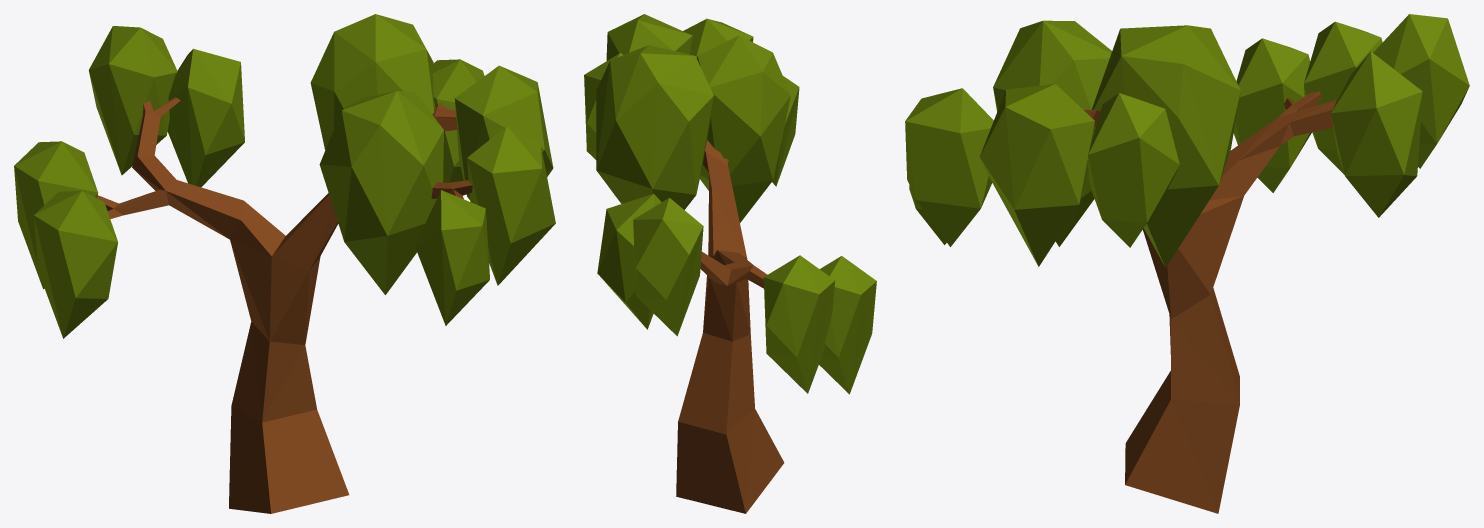
File: Willow2.fbx
3 views of the same model, side by side, from view 1: azimuth 30°, elevation 25°; view 2: azimuth 150°, elevation 25°; view 3: azimuth 270°, elevation 25° (orthographic). The views are drawn at different scales.
Visible parts, largest first — view 1: Willow2; view 2: Willow2; view 3: Willow2.
Boxes of the visible parts, x1,y1,x2,y2 form: Willow2: (14, 14, 555, 513); Willow2: (584, 14, 876, 513); Willow2: (905, 14, 1469, 513).
Size of the model in its own units: 341 by 392 by 387.
